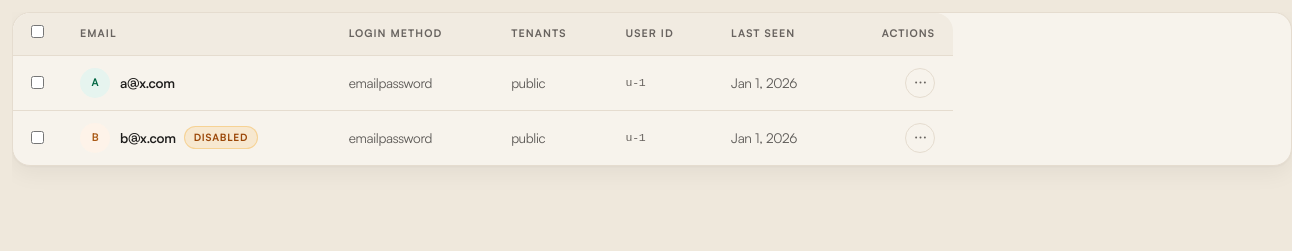
Test: UsersTable › counts failed accounts in the status line
Click the checkbox named "select all users". click: (38, 32)
box: [31,25,44,38]
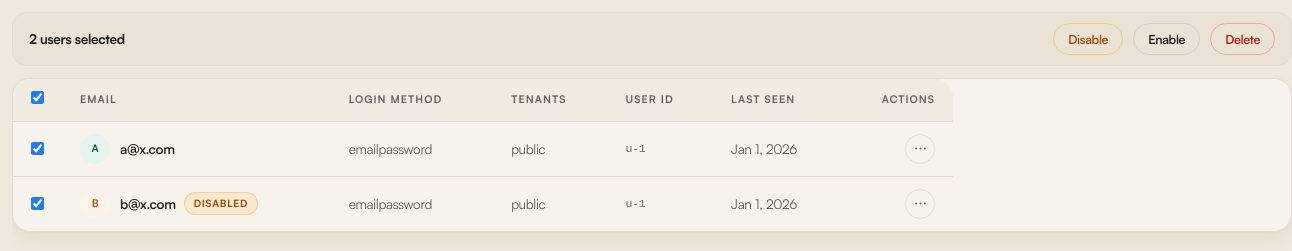
Click the button "Enable". click: (1167, 39)
box: [1133,23,1200,55]
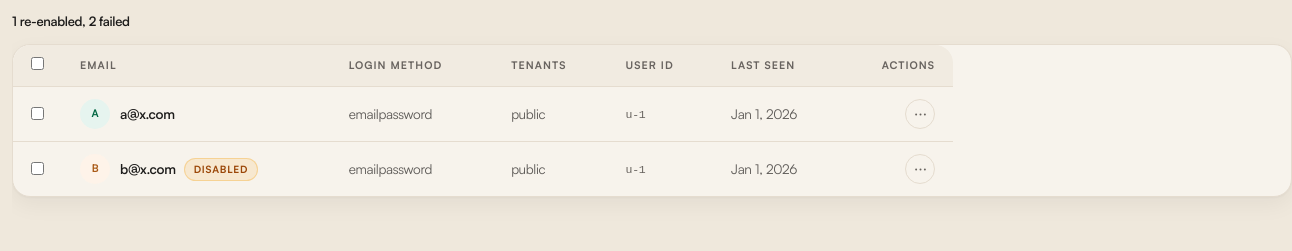
Expected: the message reads "1 re-enabled, 2 failed", [12,13,130,29]
